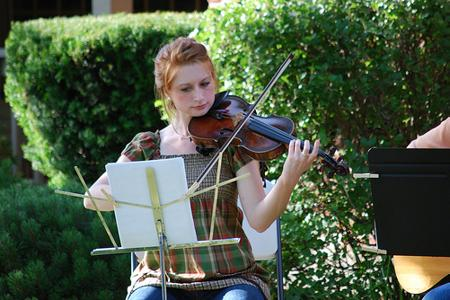person: (84, 40, 321, 299)
